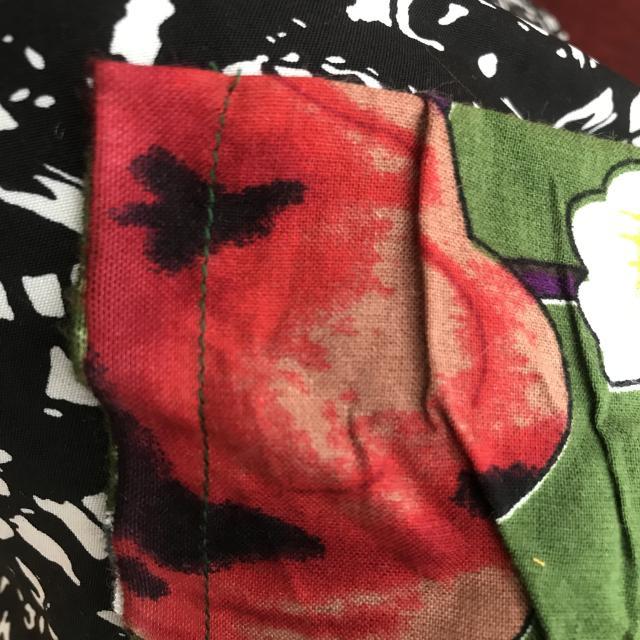good: (186, 282, 223, 461), (197, 576, 232, 627)
